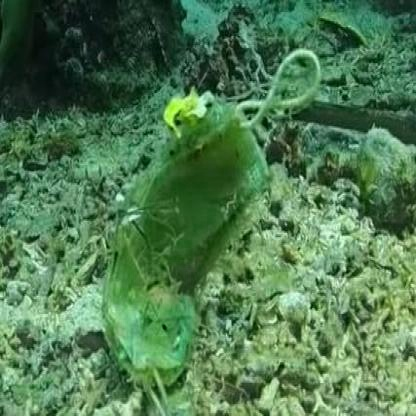Mask: (102, 48, 322, 415)
